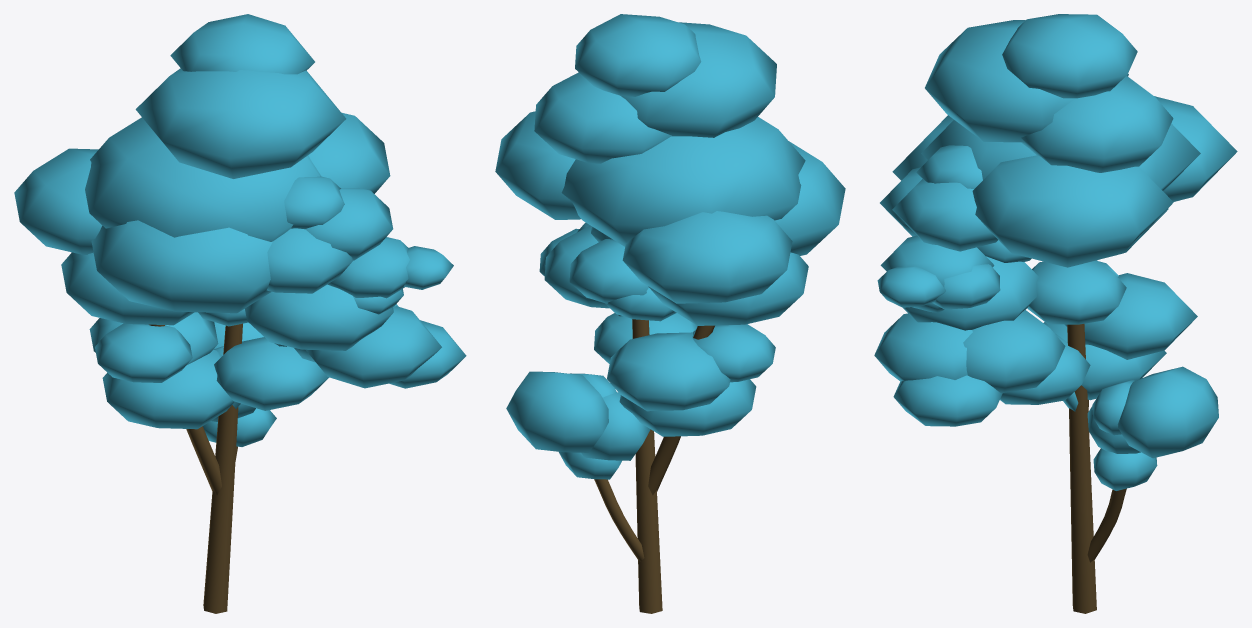
File: tree_6.fbx
The picture shows the model from 3 angles, left to right: view 1: azimuth 30°, elevation 25°; view 2: azimuth 150°, elevation 25°; view 3: azimuth 270°, elevation 25°; orthographic projection. The views are drawn at different scales.
Visible parts, largest first — view 1: Cube.003; view 2: Cube.003; view 3: Cube.003.
Part boxes in pixels (bbox=[...]): Cube.003: bbox=[14, 14, 466, 613]; Cube.003: bbox=[495, 14, 845, 613]; Cube.003: bbox=[874, 14, 1237, 613].
Size of the model in its own units: 522 by 857 by 472.
